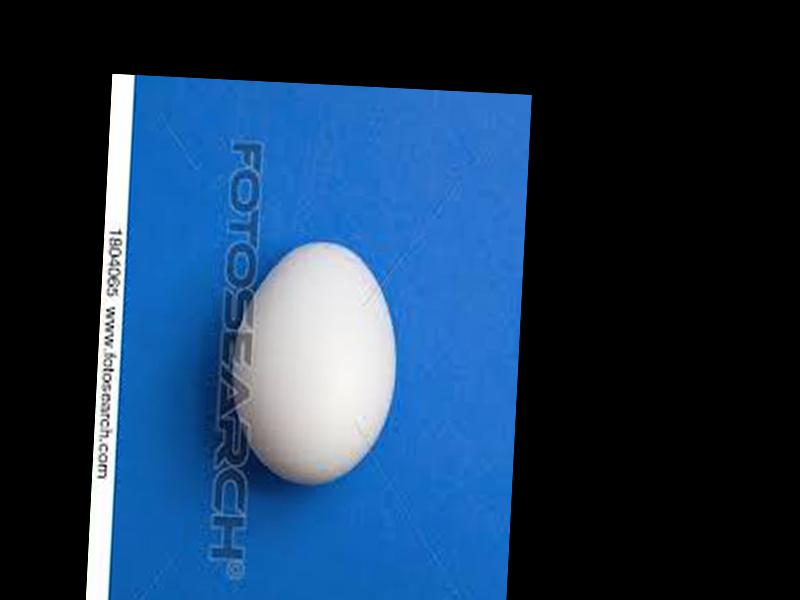Eggs: (222, 238, 401, 488)
